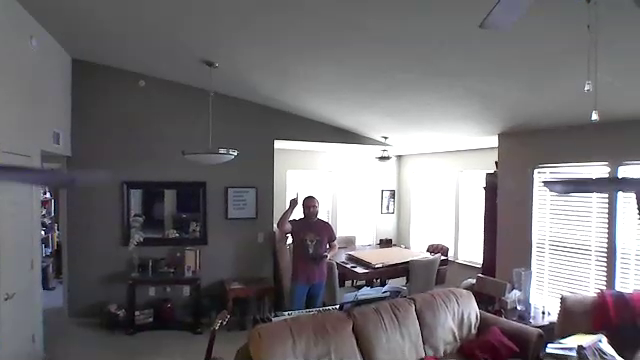up: (287, 191, 301, 208)
